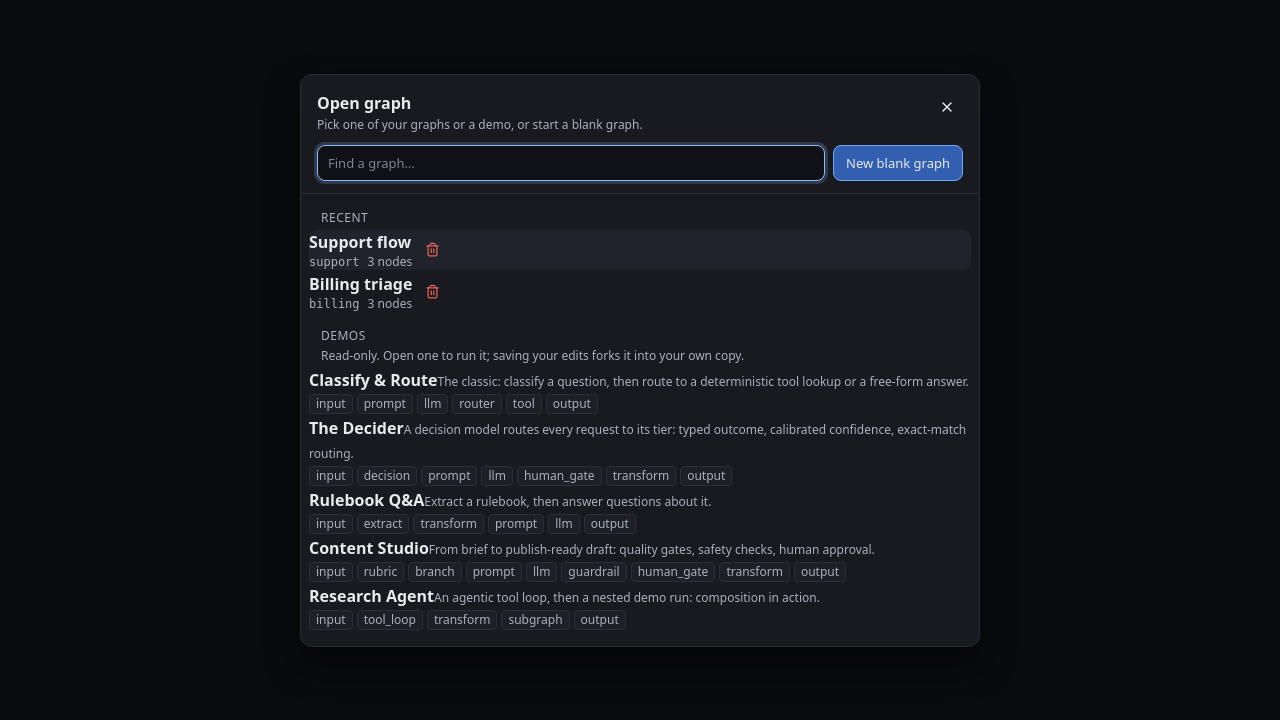
Scenario: graph picker › deletes only your own graphs, behind a confirm, and forgets a deleted last graph
The width and height of the screenshot is (1280, 720).
expect the text "Billing triage" is shown: met, box [309, 272, 412, 294]
Click the button named "Delete Billing triage": (432, 292) [416, 276, 448, 308]
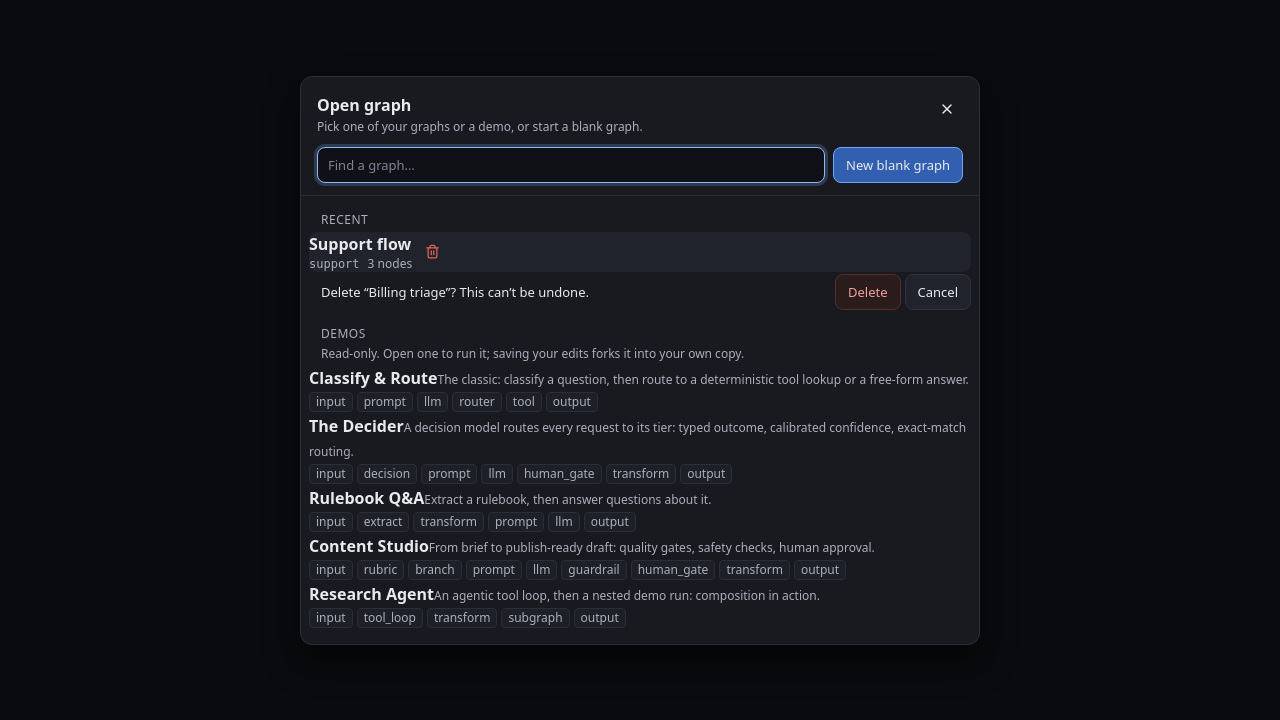
Click the button "Delete": (868, 292) [835, 274, 900, 310]
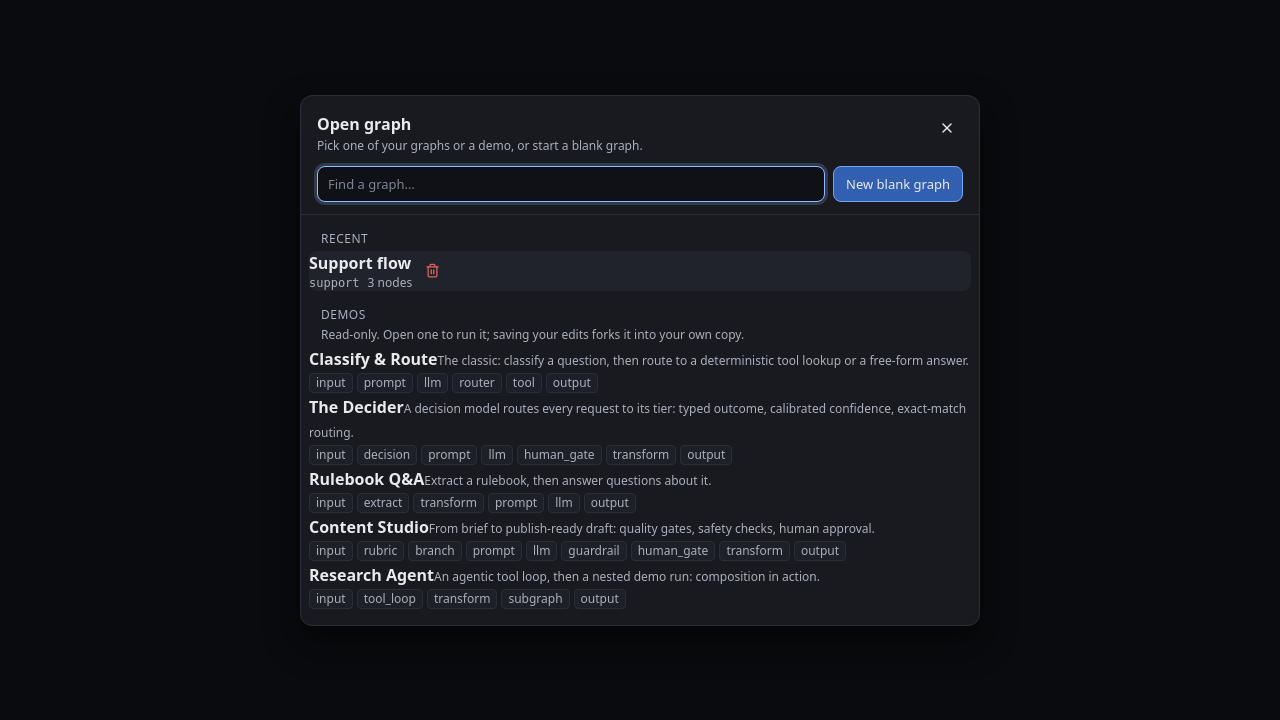
expect the text "Billing triage" is gone: met
